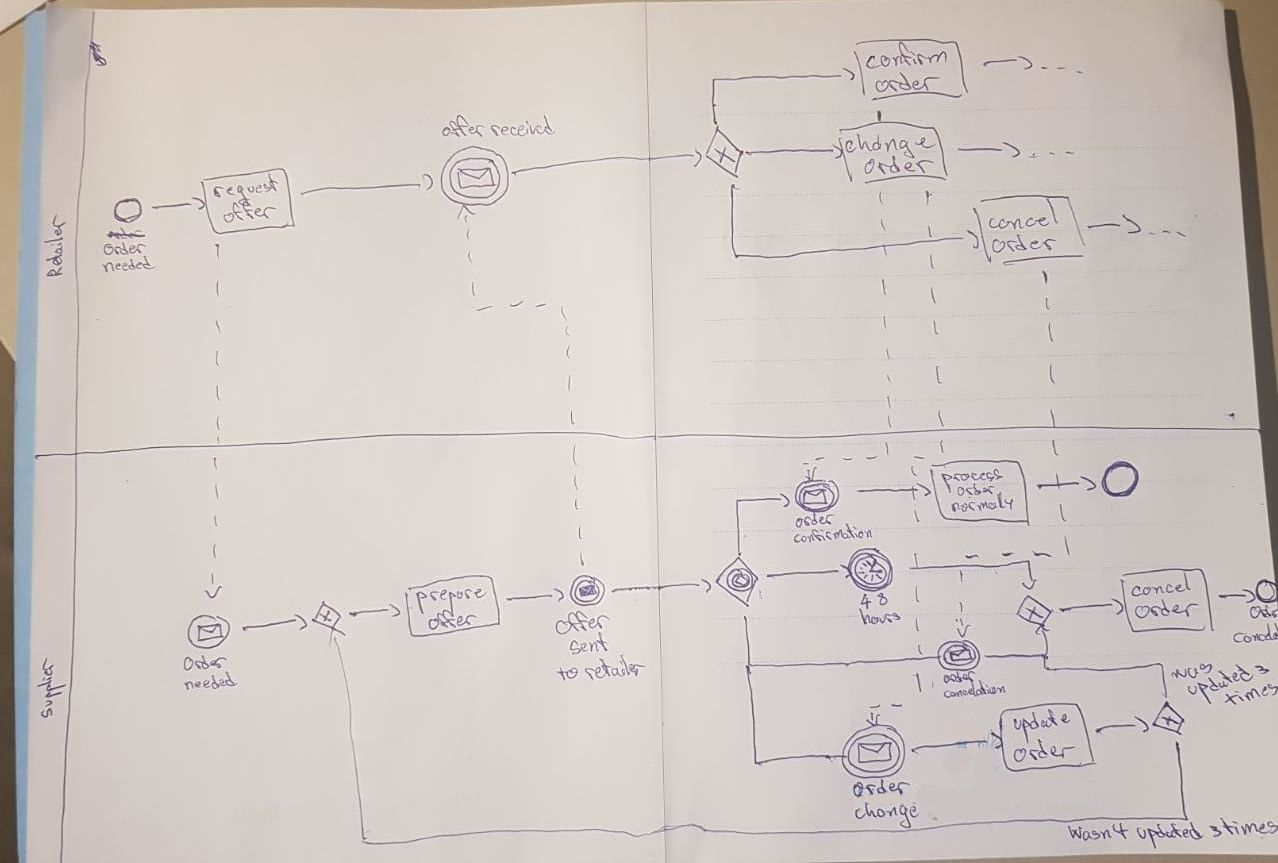3: (1250, 656, 1271, 678), (1208, 815, 1223, 841)
48: (861, 592, 888, 608)
Cancellation: (944, 683, 1007, 702)
Confirmation: (791, 524, 874, 547)
Order: (1014, 737, 1074, 767), (184, 654, 225, 673)
Process: (942, 467, 1003, 488)
Retailer: (43, 214, 69, 278)
Supplier: (35, 657, 58, 720)
Update: (1011, 708, 1071, 738)
cancel: (985, 205, 1059, 233), (1132, 577, 1195, 599)
change: (845, 133, 934, 157), (852, 803, 924, 824)
confirm: (866, 48, 949, 71)
hours: (862, 609, 901, 625)
needed: (183, 673, 236, 694), (105, 257, 154, 275)
normally: (951, 494, 1014, 515)
offer: (222, 200, 278, 226), (557, 611, 610, 636), (423, 608, 474, 631), (440, 116, 482, 142)
order: (862, 154, 935, 178), (877, 72, 942, 97), (993, 234, 1057, 257), (1139, 598, 1199, 622), (853, 781, 909, 798), (956, 482, 996, 499), (104, 242, 147, 257), (1244, 603, 1277, 622), (794, 513, 833, 529), (942, 667, 977, 684)
prepare: (412, 582, 487, 605)
received: (485, 115, 556, 141)
request: (212, 176, 280, 202)
retailer: (582, 653, 647, 683)
sent: (569, 634, 610, 655)
times: (1223, 679, 1277, 708), (1223, 815, 1275, 840)
to: (556, 664, 581, 686)
updated: (1179, 662, 1256, 701), (1136, 820, 1207, 844)
was: (1167, 661, 1215, 680)
wasn't: (1072, 823, 1133, 844)
